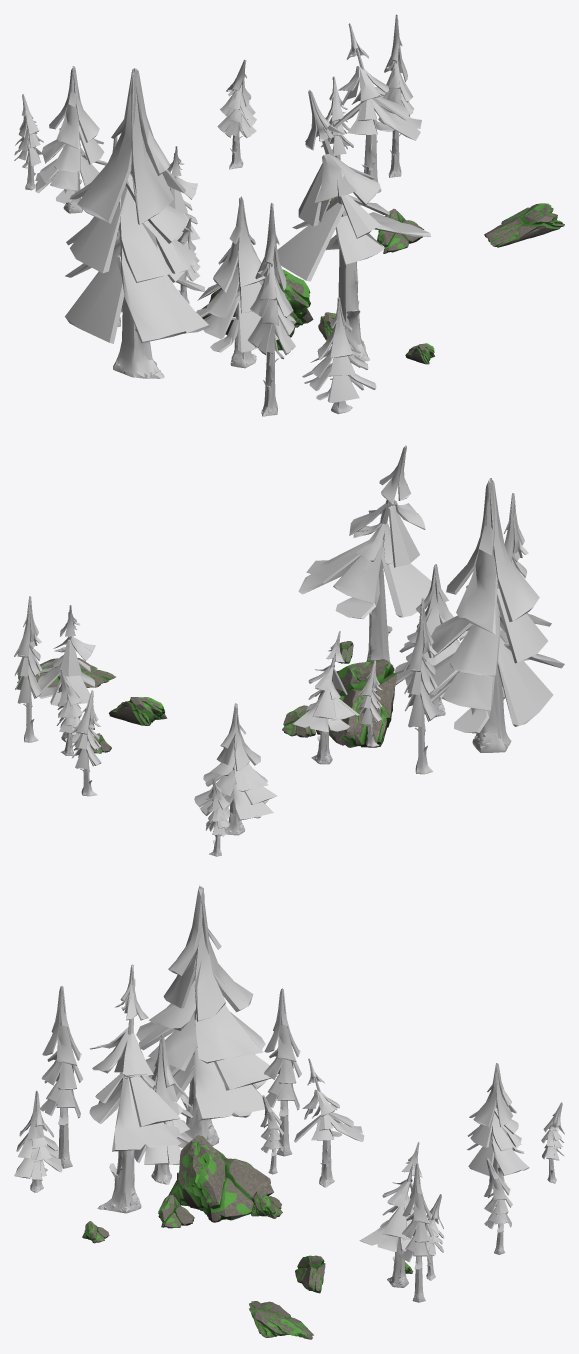
File: tree_group_01_sm.fbx
3 views of the same model, one above another, from view 1: azimuth 30°, elevation 25°; view 2: azimuth 150°, elevation 25°; view 3: azimuth 270°, elevation 25° (orthographic). The views are drawn at different scales.
Visible parts, largest first — view 1: tree_tex_02.008|TREE_07B_lo.007|Dupli|, tree_tex_03.006|TREE_07B_lo.026|Dupli|, tree_tex_02.005|TREE_07B_lo.007|Dupli|, tree_tex_02.007|TREE_07B_lo.007|Dupli|, tree_tex_01.007|TREE_07B_lo|Dupli|, tree_tex_03.005|TREE_07B_lo.026|Dupli|, tree_tex_02.006|TREE_07B_lo.007|Dupli|, tree_tex_04.007|TREE_07B_lo.001|Dupli|, rock_01.012|Mesh|Dupli|, tree_tex_01.005|TREE_07B_lo|Dupli|, rock_01.008|Mesh|Dupli|, tree_tex_04.009|TREE_07B_lo.001|Dupli| (+4 smaller); view 2: tree_tex_02.008|TREE_07B_lo.007|Dupli|, tree_tex_03.006|TREE_07B_lo.026|Dupli|, tree_tex_02.007|TREE_07B_lo.007|Dupli|, rock_01.008|Mesh|Dupli|, tree_tex_03.007|TREE_07B_lo.026|Dupli|, tree_tex_01.008|TREE_07B_lo|Dupli|, tree_tex_03.005|TREE_07B_lo.026|Dupli|, tree_tex_02.005|TREE_07B_lo.007|Dupli|, tree_tex_01.005|TREE_07B_lo|Dupli|, tree_tex_04.007|TREE_07B_lo.001|Dupli|, tree_tex_04.006|TREE_07B_lo.001|Dupli|, rock_01|Mesh|Dupli| (+5 smaller); view 3: tree_tex_02.008|TREE_07B_lo.007|Dupli|, tree_tex_03.006|TREE_07B_lo.026|Dupli|, rock_01.008|Mesh|Dupli|, tree_tex_02.007|TREE_07B_lo.007|Dupli|, tree_tex_01.007|TREE_07B_lo|Dupli|, tree_tex_01.008|TREE_07B_lo|Dupli|, tree_tex_03.005|TREE_07B_lo.026|Dupli|, tree_tex_02.005|TREE_07B_lo.007|Dupli|, tree_tex_03.007|TREE_07B_lo.026|Dupli|, tree_tex_02.006|TREE_07B_lo.007|Dupli|, tree_tex_01.005|TREE_07B_lo|Dupli|, rock_01.012|Mesh|Dupli| (+7 smaller).
Boxes of the visible parts, bbox=[...] form: tree_tex_02.008|TREE_07B_lo.007|Dupli|: bbox=[65, 68, 209, 378]; tree_tex_03.006|TREE_07B_lo.026|Dupli|: bbox=[277, 90, 430, 361]; tree_tex_02.005|TREE_07B_lo.007|Dupli|: bbox=[196, 196, 296, 368]; tree_tex_02.007|TREE_07B_lo.007|Dupli|: bbox=[35, 66, 107, 213]; tree_tex_01.007|TREE_07B_lo|Dupli|: bbox=[248, 203, 295, 416]; tree_tex_03.005|TREE_07B_lo.026|Dupli|: bbox=[329, 23, 421, 193]; tree_tex_02.006|TREE_07B_lo.007|Dupli|: bbox=[302, 297, 376, 414]; tree_tex_04.007|TREE_07B_lo.001|Dupli|: bbox=[217, 59, 256, 169]; rock_01.012|Mesh|Dupli|: bbox=[484, 203, 564, 247]; tree_tex_01.005|TREE_07B_lo|Dupli|: bbox=[378, 14, 413, 177]; rock_01.008|Mesh|Dupli|: bbox=[202, 269, 313, 350]; tree_tex_04.009|TREE_07B_lo.001|Dupli|: bbox=[14, 94, 43, 190]; tree_tex_02.008|TREE_07B_lo.007|Dupli|: bbox=[429, 478, 564, 752]; tree_tex_03.006|TREE_07B_lo.026|Dupli|: bbox=[298, 445, 442, 672]; tree_tex_02.007|TREE_07B_lo.007|Dupli|: bbox=[194, 703, 277, 835]; rock_01.008|Mesh|Dupli|: bbox=[316, 659, 396, 747]; tree_tex_03.007|TREE_07B_lo.026|Dupli|: bbox=[292, 631, 359, 764]; tree_tex_01.008|TREE_07B_lo|Dupli|: bbox=[403, 598, 438, 774]; tree_tex_03.005|TREE_07B_lo.026|Dupli|: bbox=[37, 605, 95, 743]; tree_tex_02.005|TREE_07B_lo.007|Dupli|: bbox=[394, 564, 468, 716]; tree_tex_01.005|TREE_07B_lo|Dupli|: bbox=[14, 596, 42, 742]; tree_tex_04.007|TREE_07B_lo.001|Dupli|: bbox=[71, 690, 101, 796]; tree_tex_04.006|TREE_07B_lo.001|Dupli|: bbox=[56, 669, 82, 755]; rock_01|Mesh|Dupli|: bbox=[109, 697, 167, 725]; tree_tex_02.008|TREE_07B_lo.007|Dupli|: bbox=[119, 885, 278, 1147]; tree_tex_03.006|TREE_07B_lo.026|Dupli|: bbox=[89, 964, 181, 1213]; rock_01.008|Mesh|Dupli|: bbox=[168, 1135, 273, 1222]; tree_tex_02.007|TREE_07B_lo.007|Dupli|: bbox=[467, 1063, 529, 1189]; tree_tex_01.007|TREE_07B_lo|Dupli|: bbox=[40, 986, 82, 1168]; tree_tex_01.008|TREE_07B_lo|Dupli|: bbox=[264, 988, 301, 1156]; tree_tex_03.005|TREE_07B_lo.026|Dupli|: bbox=[359, 1142, 438, 1287]; tree_tex_02.005|TREE_07B_lo.007|Dupli|: bbox=[134, 1035, 192, 1184]; tree_tex_03.007|TREE_07B_lo.026|Dupli|: bbox=[294, 1058, 364, 1187]; tree_tex_02.006|TREE_07B_lo.007|Dupli|: bbox=[14, 1090, 62, 1192]; tree_tex_01.005|TREE_07B_lo|Dupli|: bbox=[400, 1163, 433, 1302]; rock_01.012|Mesh|Dupli|: bbox=[249, 1301, 313, 1339].
Bounding box in the file's own units: 4814 × 2639 × 5082.
